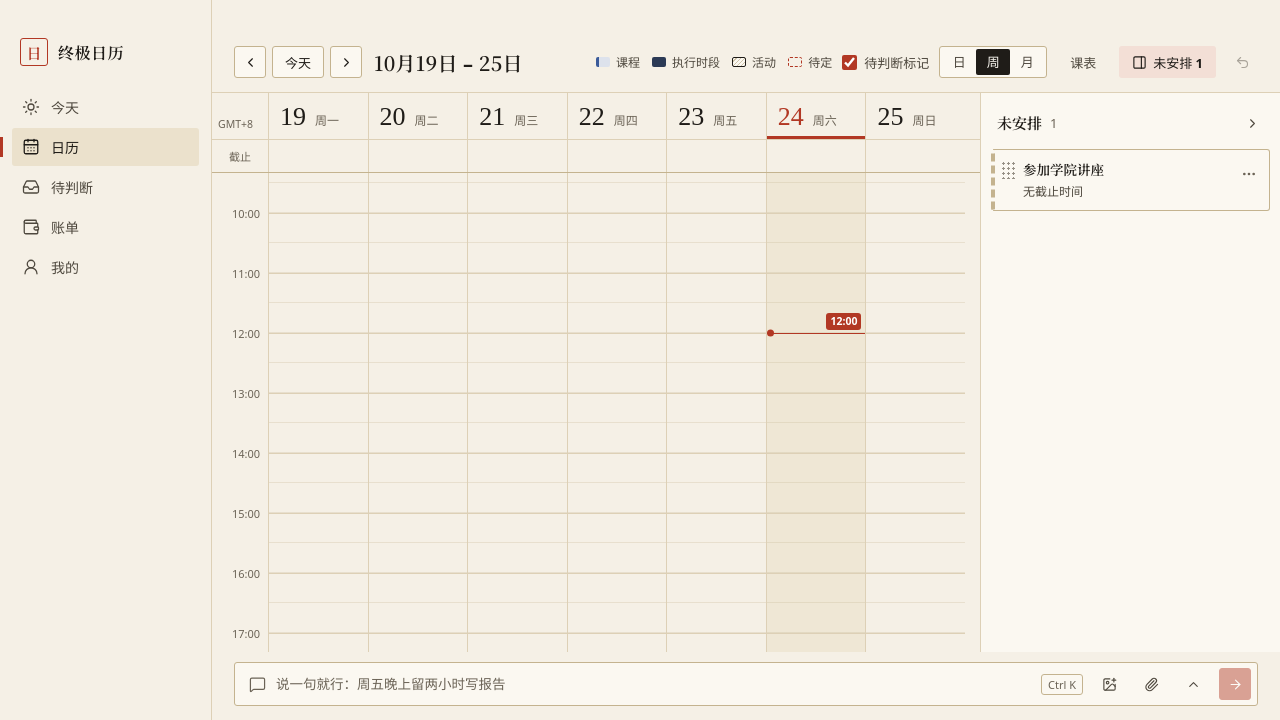
Test: scheduling accepted tasks with existing activity times › starts an untimed task draft today even after browsing a different calendar week
(page scrolled)
Click the button named "下一页" at (346, 62), box [330,46,362,78]
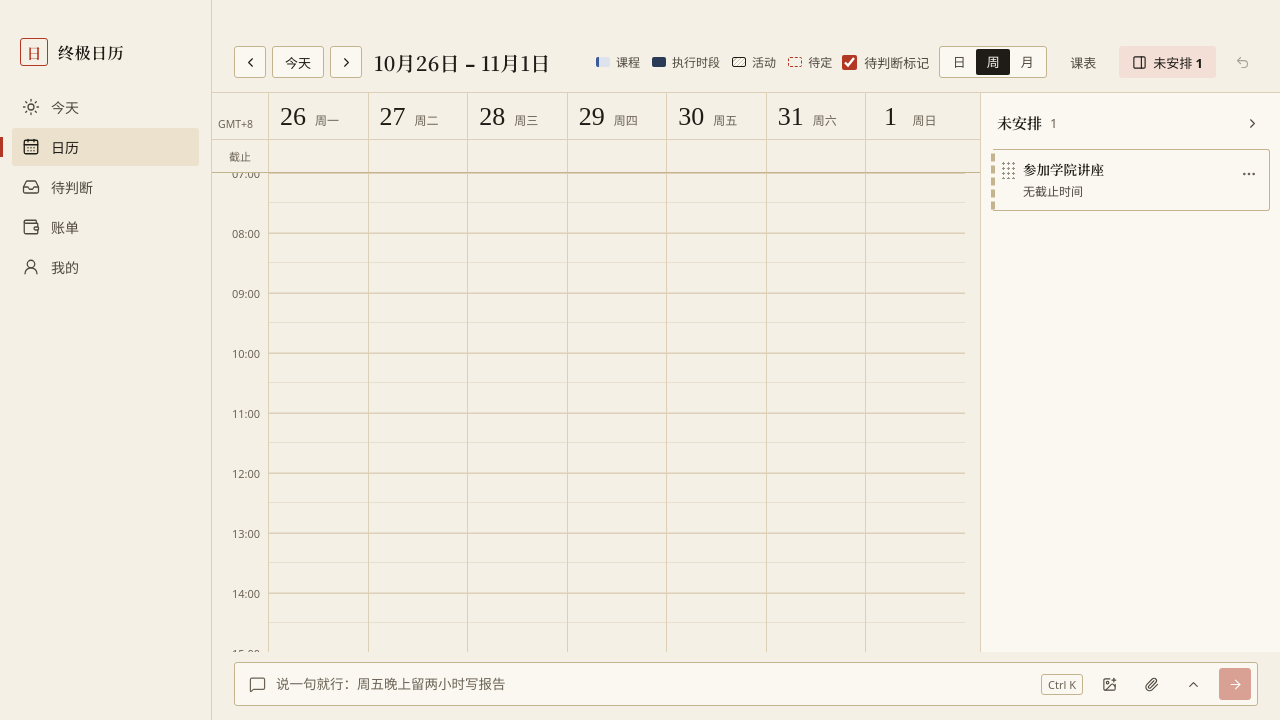
Click the button named "的更多操作" at (1249, 174), box [1235,160,1263,188]
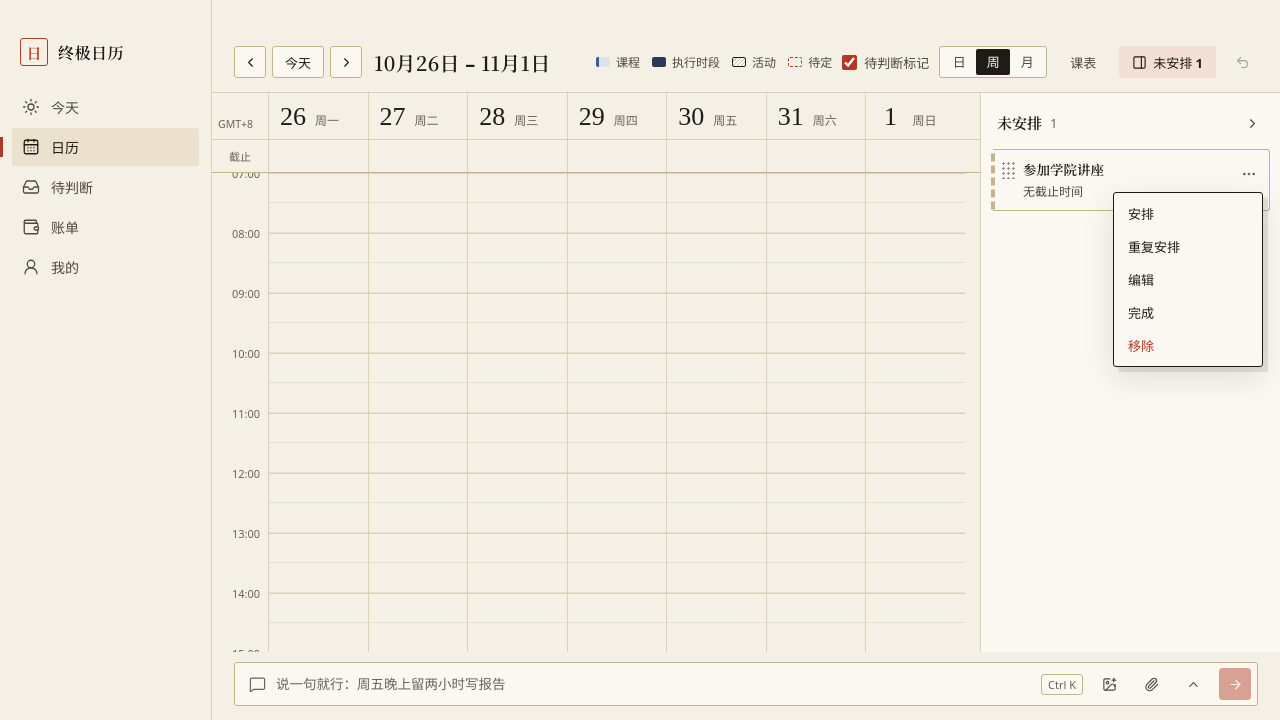
Click the menu item "安排" at (1188, 214), box [1118,197,1258,230]
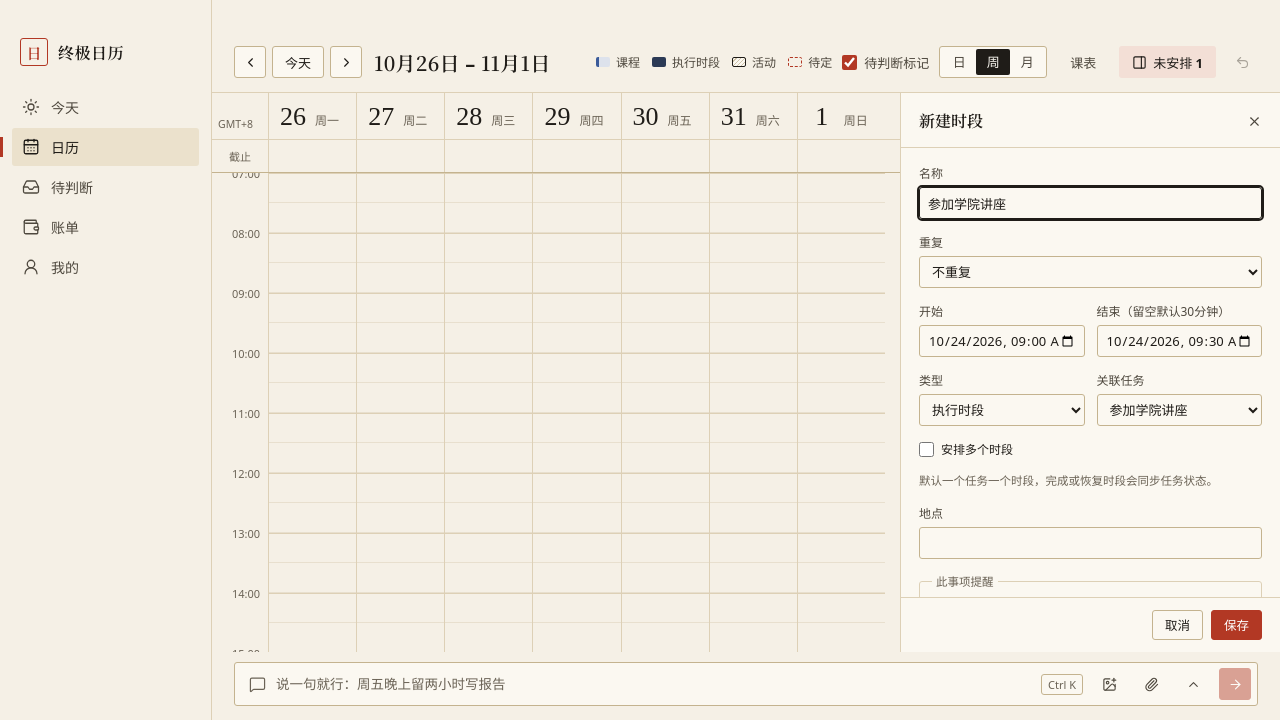
Now the field labelled "开始" holds "2026-10-24T09:00", box [919,325,1084,357]
Now the field labelled "结束（留空默认30分钟）" holds "2026-10-24T09:30", box [1096,325,1262,357]
